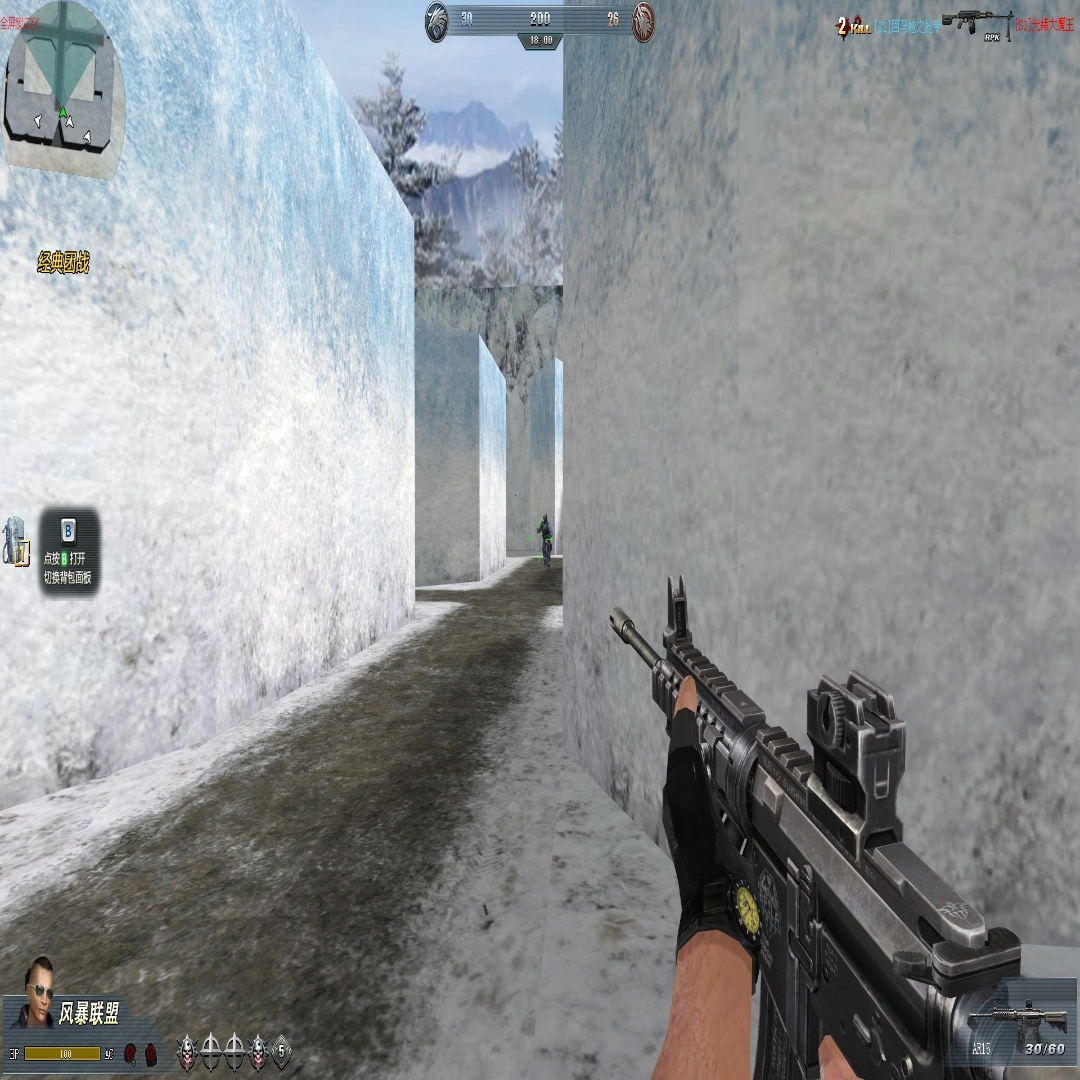ct: (537, 513, 553, 568)
